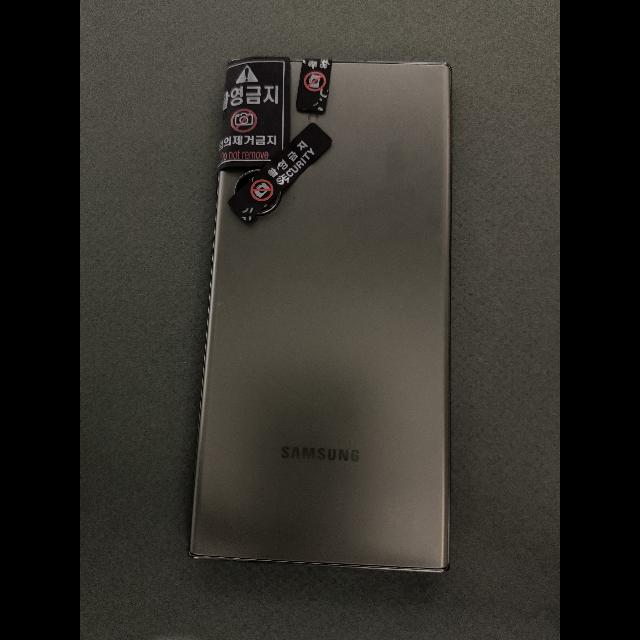lens: (235, 170, 261, 192)
phone: (189, 55, 451, 572)
sticker: (228, 123, 333, 224), (218, 57, 289, 172), (296, 59, 332, 111)
